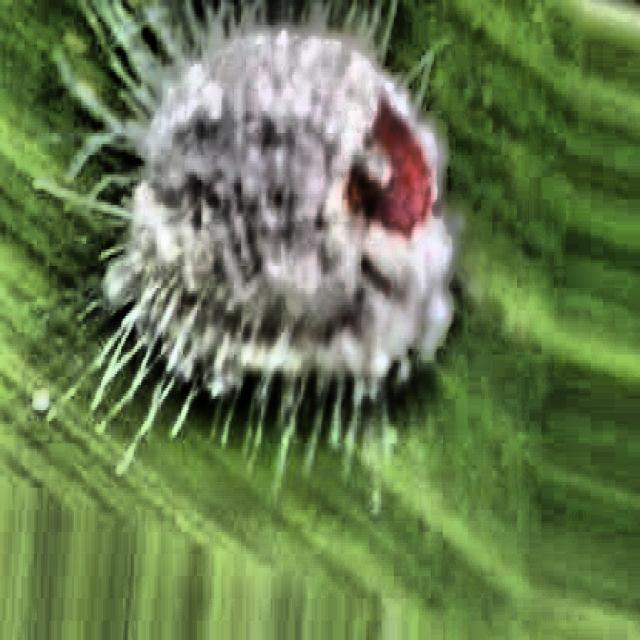Mealy-bug: (41, 0, 496, 441)
